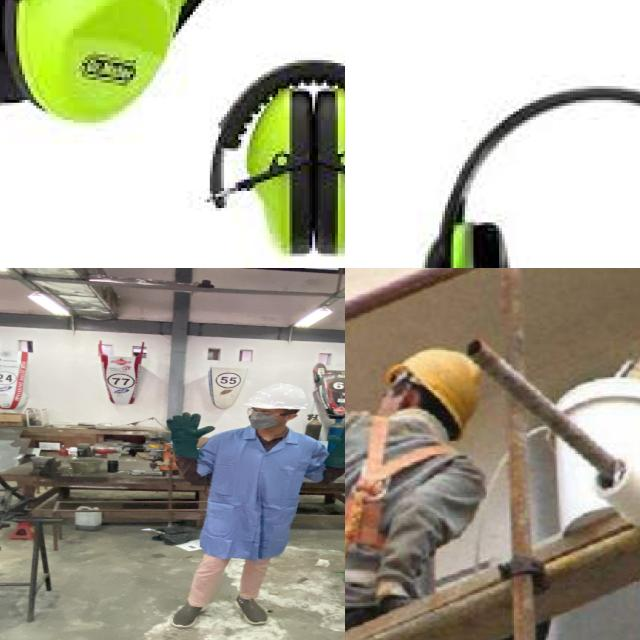Ear-protection: (22, 0, 184, 122), (241, 85, 310, 254), (416, 213, 521, 268), (312, 82, 345, 256)
Harness: (345, 412, 468, 556)
face_mask: (246, 405, 290, 432)
glasses: (242, 406, 295, 417)
hand_glove: (159, 411, 220, 444), (320, 422, 345, 457)
head_helmet: (243, 380, 315, 412)
person: (139, 385, 345, 635)
shoes: (225, 592, 285, 631), (165, 592, 217, 632)
